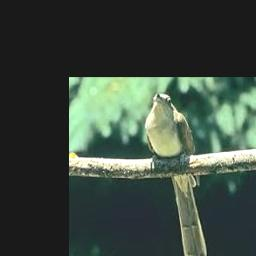Cuckoo: (144, 94, 207, 256)
